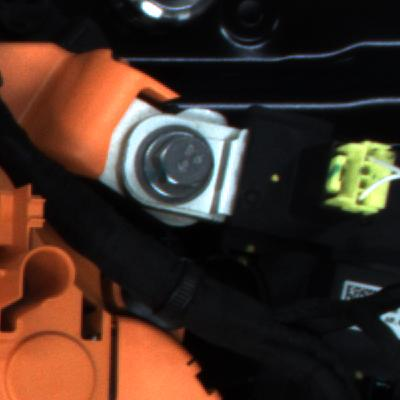nut_b: (136, 121, 222, 201)
